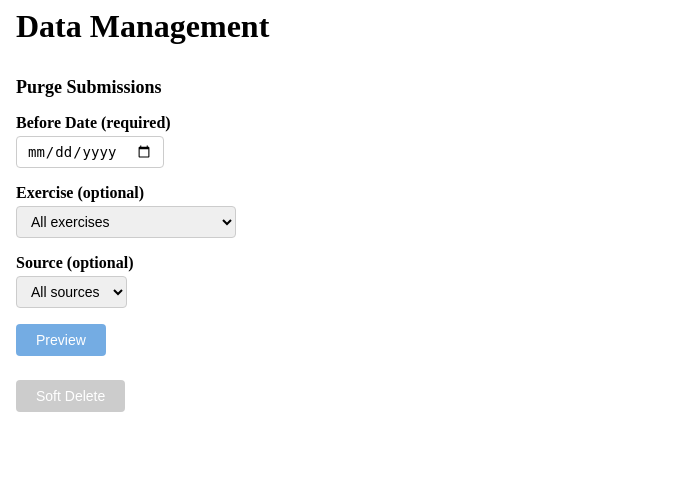
Test: clicking preview fetches count and enables purge buttons
Type "2025-01-01" into the date field labelled "Before Date (required)" at point(90, 152), box x1=16 y1=136 x2=164 y2=168
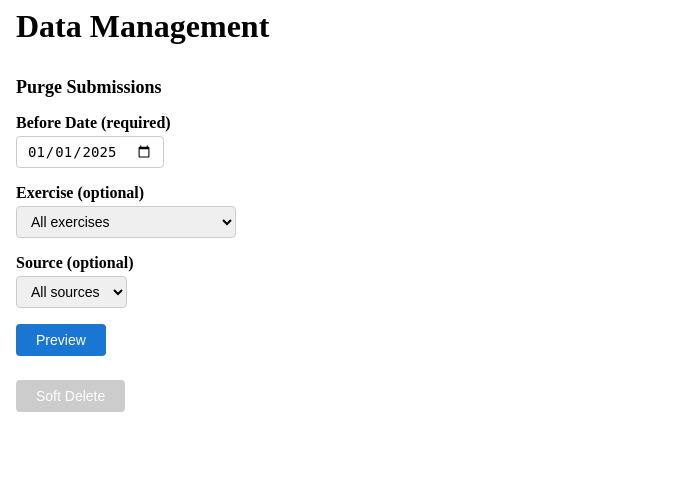
Click the button "Preview" at point(61, 340), box x1=16 y1=324 x2=106 y2=356
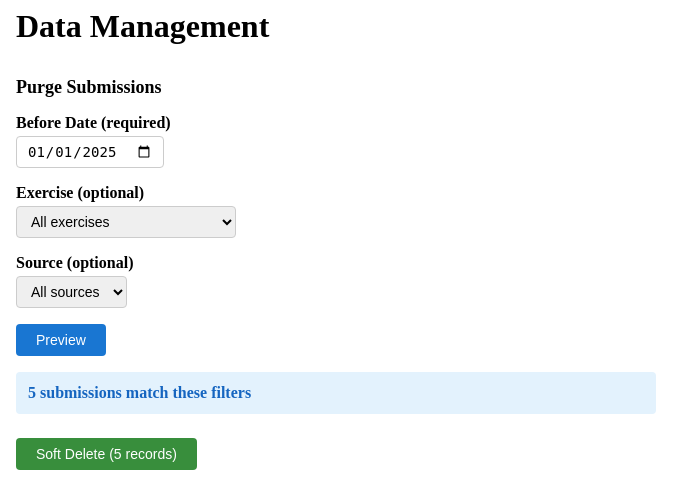
Expected: the text "5 submissions match these filters" is shown, x1=16 y1=372 x2=656 y2=414
Expected: the button "Soft Delete (5 records)" is enabled, x1=16 y1=438 x2=197 y2=470
